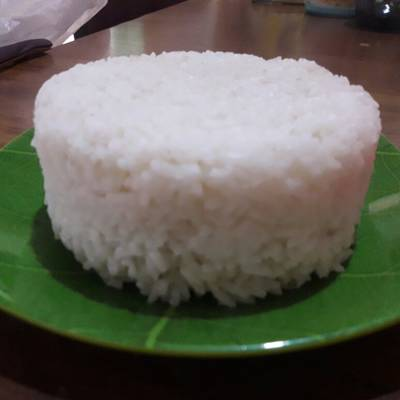Nasi Putih: (22, 51, 380, 311)
